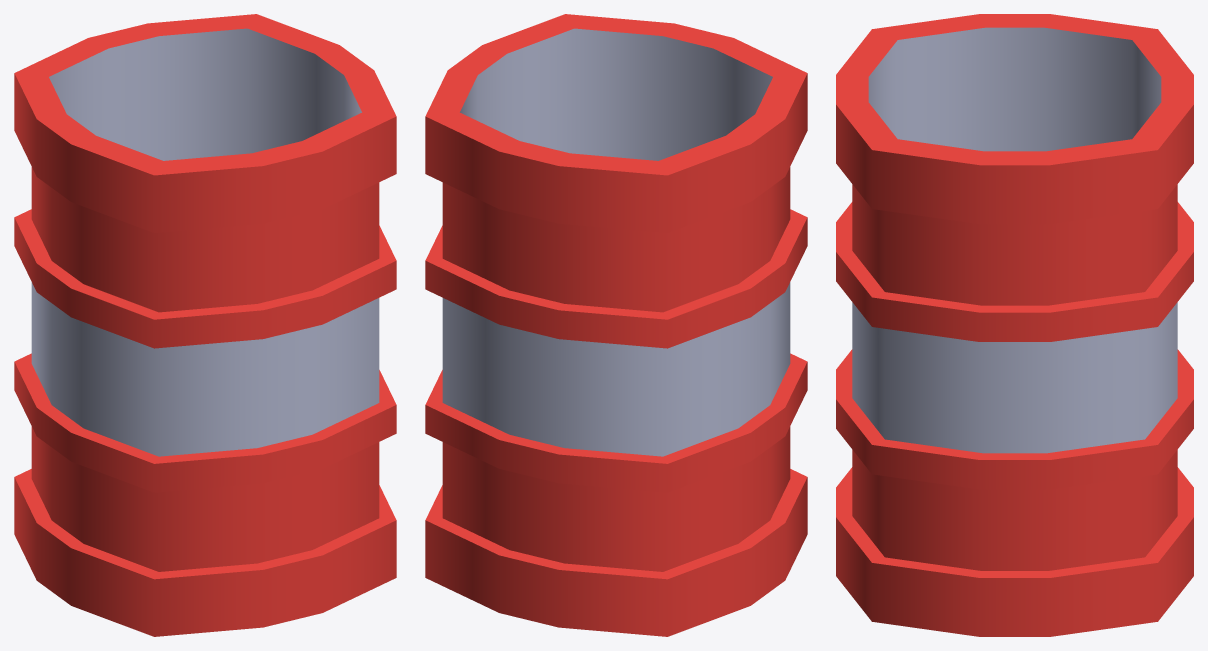
File: barrelOpen.fbx
3 renders of one model, left to right at view 1: azimuth 30°, elevation 25°; view 2: azimuth 150°, elevation 25°; view 3: azimuth 270°, elevation 25°, orthographic. The views are drawn at different scales.
Parts seen in each view (by area): view 1: barrelOpen; view 2: barrelOpen; view 3: barrelOpen.
Boxes of the visible parts, left/top/right/bottom form: barrelOpen: left=14, top=14, right=396, bottom=636; barrelOpen: left=425, top=14, right=807, bottom=636; barrelOpen: left=836, top=14, right=1193, bottom=636.
Bounding box in the file's own units: 2.36 × 3.44 × 2.36.
